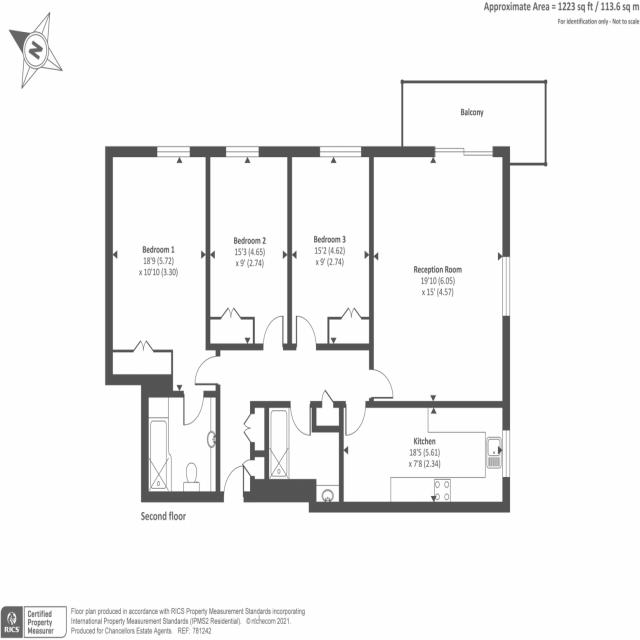DOOR: (221, 462, 247, 505), (260, 312, 286, 353), (366, 365, 395, 401), (344, 397, 368, 440), (193, 353, 222, 388), (288, 398, 312, 440), (294, 312, 319, 352), (181, 388, 206, 428)
ROOM: (366, 145, 512, 408), (105, 145, 221, 430), (338, 399, 511, 515), (286, 144, 376, 351), (204, 144, 293, 352)
WINDOW: (500, 255, 512, 319), (318, 143, 364, 159), (500, 427, 513, 480), (224, 144, 261, 160), (155, 144, 192, 159)
